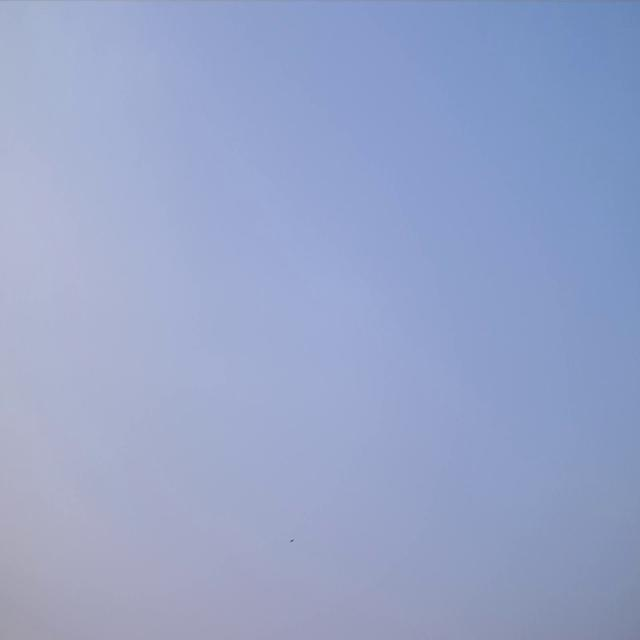UAV: (290, 538, 294, 543)
